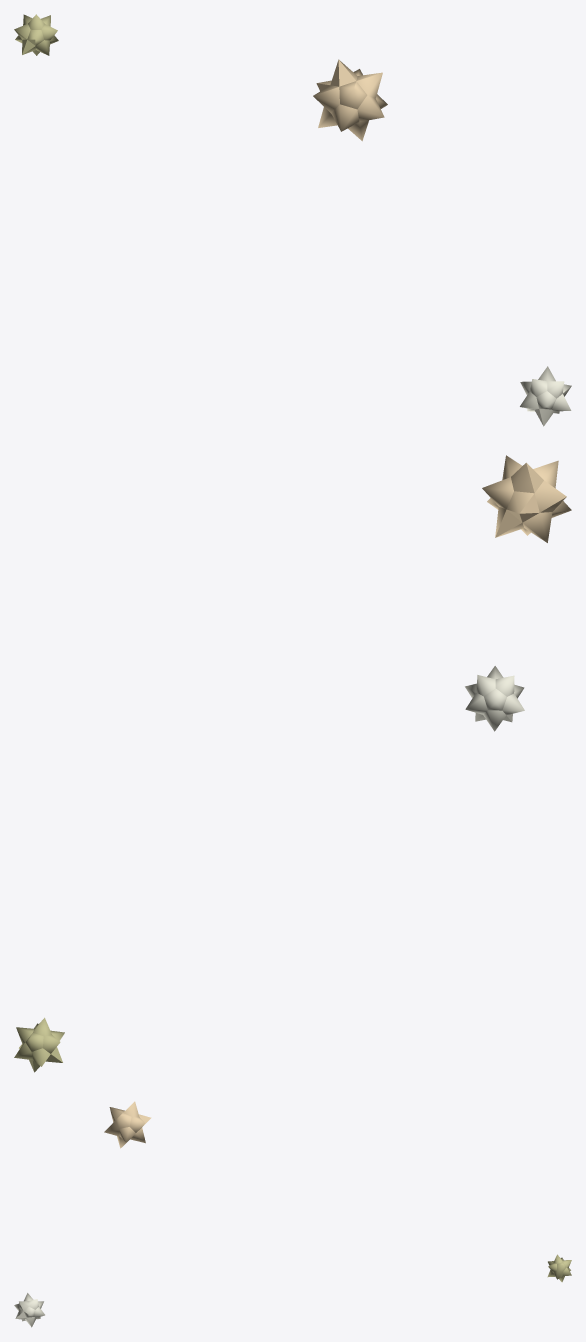
Rendered from starGizaGiza.fbx.
3 views of the same model, one above another, from view 1: azimuth 30°, elevation 25°; view 2: azimuth 150°, elevation 25°; view 3: azimuth 270°, elevation 25° (orthographic). The views are drawn at different scales.
Parts seen in each view (by area): view 1: pPlatonic3, pPlatonic18, pPlatonic15; view 2: pPlatonic3, pPlatonic18, pPlatonic15; view 3: pPlatonic3, pPlatonic18, pPlatonic15.
Part boxes in pixels (box(x1,y1,x2,y2)): pPlatonic3: box(313, 59, 387, 141); pPlatonic18: box(520, 366, 571, 426); pPlatonic15: box(14, 14, 58, 55); pPlatonic3: box(482, 455, 571, 542); pPlatonic18: box(465, 666, 524, 731); pPlatonic15: box(14, 1017, 64, 1072); pPlatonic3: box(104, 1101, 151, 1148); pPlatonic18: box(14, 1293, 44, 1327); pPlatonic15: box(547, 1254, 571, 1282).
Bounding box in the file's own units: 168 × 298 × 796.
